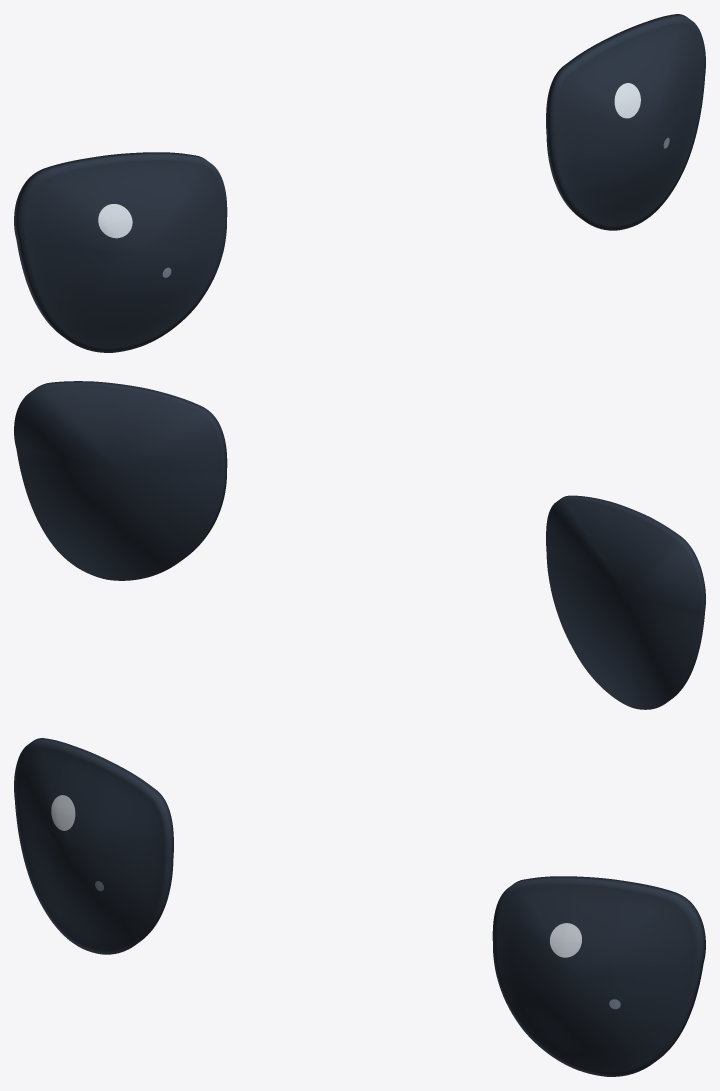
Rendered from Feminine-eyes-hooded.glb.
3 views of the same model, one above another, from view 1: azimuth 30°, elevation 25°; view 2: azimuth 150°, elevation 25°; view 3: azimuth 330°, elevation 25° (orthographic).
Visible parts, largest first — view 1: 226 eyes / Eye / smoky charcoal181, 226 eyes / Eye highlight181; view 2: 226 eyes / Eye / smoky charcoal181; view 3: 226 eyes / Eye / smoky charcoal181, 226 eyes / Eye highlight181.
Boxes of the visible parts, x1,y1,x2,y2 form: 226 eyes / Eye / smoky charcoal181: (14, 14, 705, 352); 226 eyes / Eye highlight181: (98, 83, 640, 238); 226 eyes / Eye / smoky charcoal181: (14, 381, 705, 709); 226 eyes / Eye / smoky charcoal181: (14, 738, 705, 1076); 226 eyes / Eye highlight181: (51, 795, 581, 957).
Size of the model in its own units: 0.4058 by 0.1091 by 0.0381.
